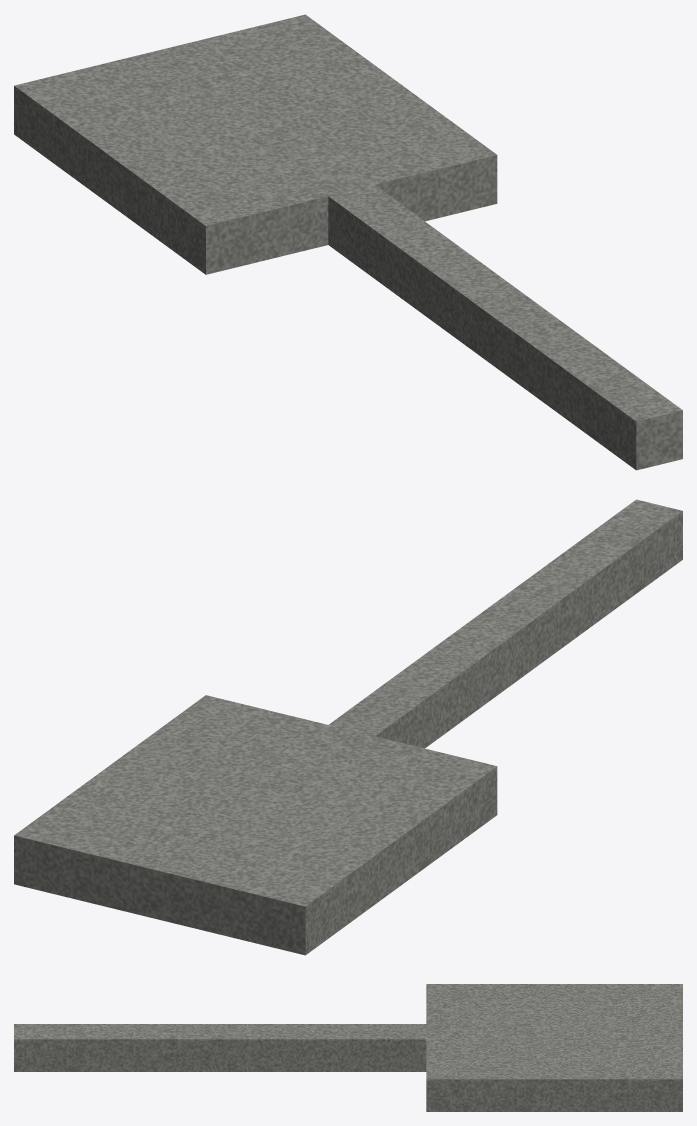
The picture shows the model from 3 angles, top to bottom: view 1: azimuth 30°, elevation 25°; view 2: azimuth 150°, elevation 25°; view 3: azimuth 270°, elevation 25°; orthographic projection. The views are drawn at different scales.
Parts seen in each view (by area): view 1: warning_sign_nuclear_1u_production_run001; view 2: warning_sign_nuclear_1u_production_run001; view 3: warning_sign_nuclear_1u_production_run001.
Part boxes in pixels (x1,y1,x2,y2): warning_sign_nuclear_1u_production_run001: (14,14,682,470); warning_sign_nuclear_1u_production_run001: (14,499,682,955); warning_sign_nuclear_1u_production_run001: (14,984,682,1111).
Size of the model in its own units: 0.5 by 0.08 by 1.49.
Materials: 1 (1 with a texture image).
